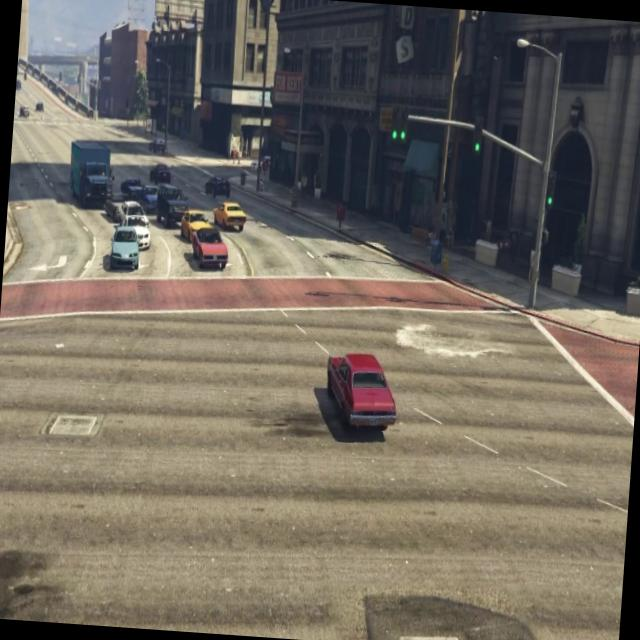Green-Signal: (382, 94, 416, 164), (540, 159, 564, 228), (466, 105, 488, 167)
